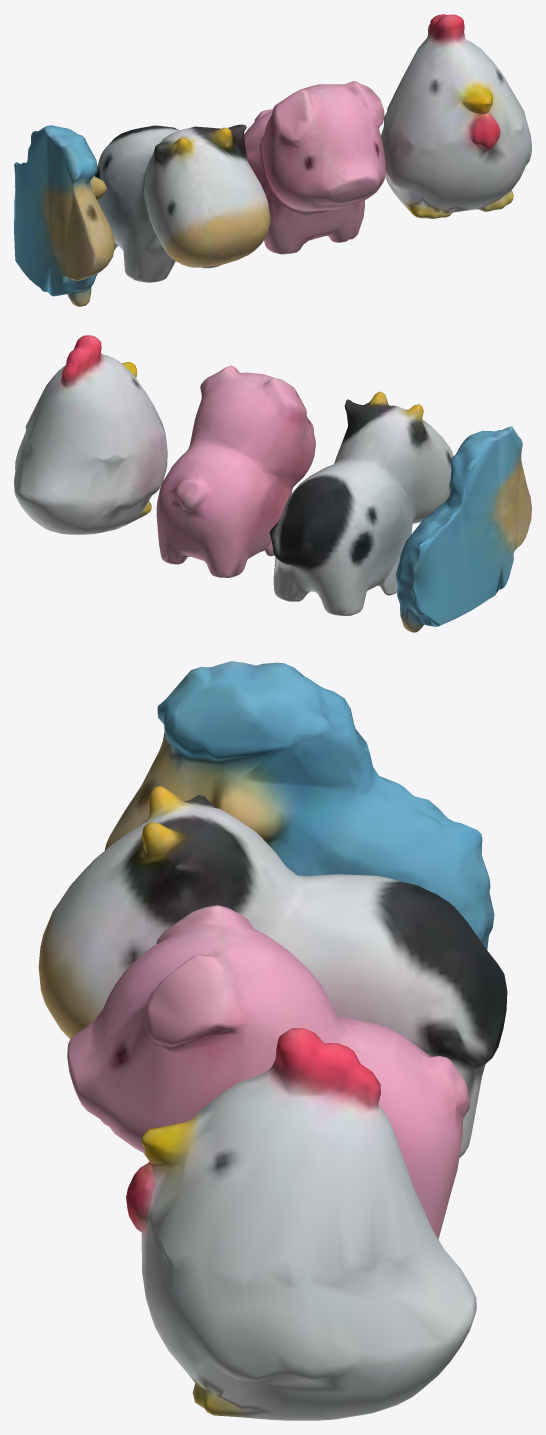
Rendered from Squirtin_Barnyard_Friends_4pk-high.glb.
3 views of the same model, one above another, from view 1: azimuth 30°, elevation 25°; view 2: azimuth 150°, elevation 25°; view 3: azimuth 270°, elevation 25° (orthographic). The views are drawn at different scales.
Parts seen in each view (by area): view 1: Squirtin_Barnyard_Friends_4pk; view 2: Squirtin_Barnyard_Friends_4pk; view 3: Squirtin_Barnyard_Friends_4pk.
Part boxes in pixels (x1=…): Squirtin_Barnyard_Friends_4pk: x1=14, y1=14, x2=531, y2=306; Squirtin_Barnyard_Friends_4pk: x1=14, y1=335, x2=531, y2=632; Squirtin_Barnyard_Friends_4pk: x1=38, y1=661, x2=507, y2=1420.
Size of the model in its own units: 0.1863 by 0.0687 by 0.081.
Materials: 1 (1 with a texture image).
